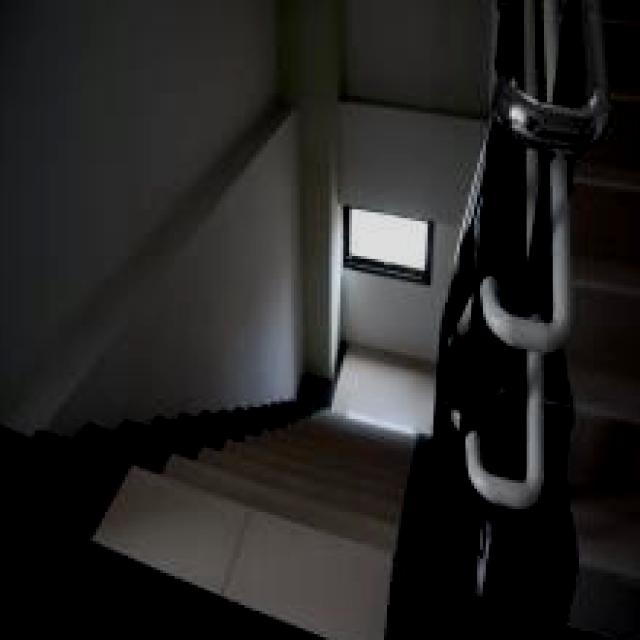downstair: (123, 440, 414, 640)
